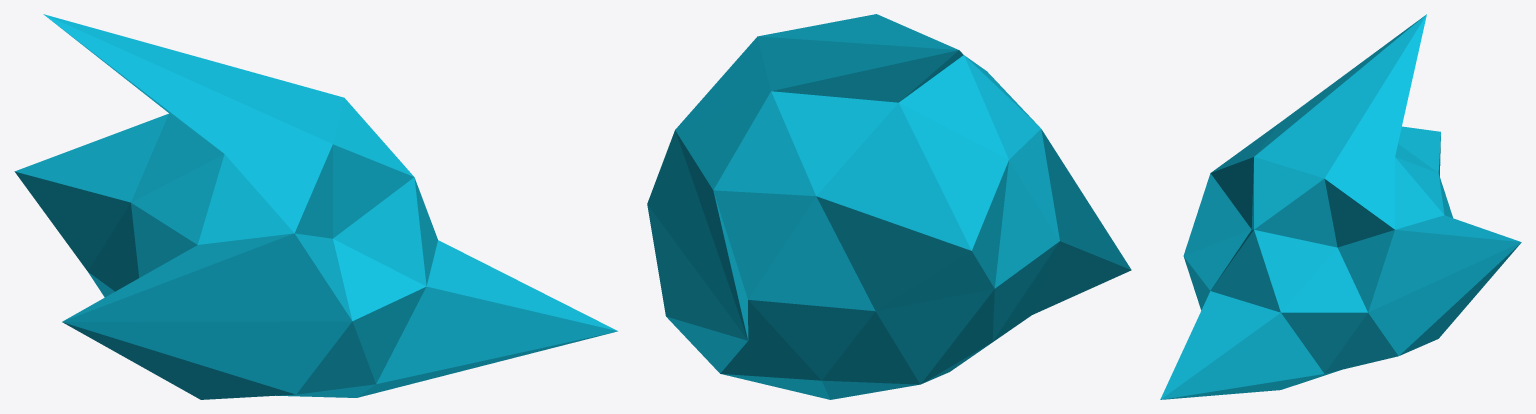
Rendered from Birdhead.dae.
3 renders of one model, left to right at view 1: azimuth 30°, elevation 25°; view 2: azimuth 150°, elevation 25°; view 3: azimuth 270°, elevation 25°, orthographic. The views are drawn at different scales.
Visible parts, largest first — view 1: Icosphere; view 2: Icosphere; view 3: Icosphere.
Part boxes in pixels (left/top/right/bottom): Icosphere: left=14, top=14, right=617, bottom=399; Icosphere: left=647, top=14, right=1131, bottom=399; Icosphere: left=1160, top=14, right=1521, bottom=399.
Bounding box in the file's own units: 3.03 × 2.56 × 2.29.
